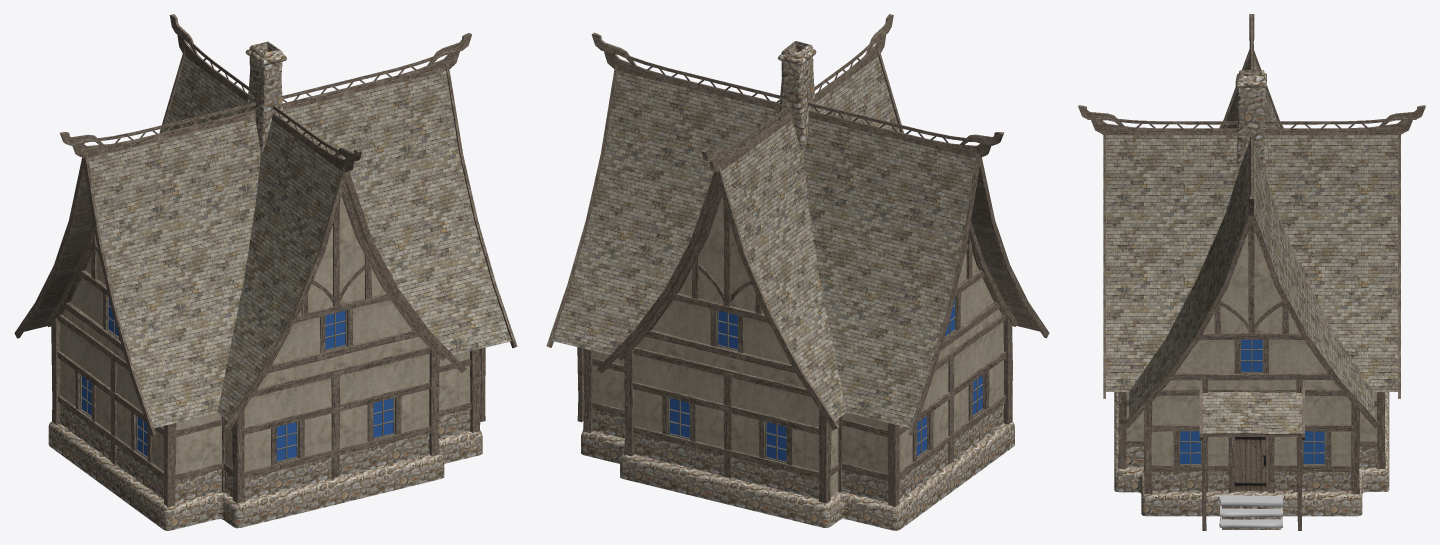
Rendered from mw_type_2_cottage_06.FBX.
The picture shows the model from 3 angles, left to right: view 1: azimuth 30°, elevation 25°; view 2: azimuth 150°, elevation 25°; view 3: azimuth 270°, elevation 25°; orthographic projection. The views are drawn at different scales.
Visible parts, largest first — view 1: mw_type_2_cottage_building_06_roof, mw_type_2_cottage_building_06_wood, mw_type_2_cottage_building_06_walls, mw_type_2_cottage_building_06_bottom, mw_type_2_cottage_building_06_stone, mw_type_2_cottage_building_06; view 2: mw_type_2_cottage_building_06_roof, mw_type_2_cottage_building_06_wood, mw_type_2_cottage_building_06_walls, mw_type_2_cottage_building_06_bottom, mw_type_2_cottage_building_06_stone, mw_type_2_cottage_building_06; view 3: mw_type_2_cottage_building_06_roof, mw_type_2_cottage_building_06_wood, mw_type_2_cottage_building_06_walls, mw_type_2_cottage_building_06_bottom, mw_type_2_cottage_building_06_stone, mw_type_2_cottage_building_06.
Part boxes in pixels (x1=…): mw_type_2_cottage_building_06_roof: x1=24, y1=56, x2=511, y2=428; mw_type_2_cottage_building_06_wood: x1=14, y1=14, x2=517, y2=507; mw_type_2_cottage_building_06_walls: x1=60, y1=196, x2=470, y2=474; mw_type_2_cottage_building_06_bottom: x1=48, y1=422, x2=482, y2=530; mw_type_2_cottage_building_06_stone: x1=60, y1=41, x2=470, y2=502; mw_type_2_cottage_building_06: x1=80, y1=296, x2=395, y2=462; mw_type_2_cottage_building_06_roof: x1=552, y1=56, x2=1039, y2=427; mw_type_2_cottage_building_06_wood: x1=546, y1=14, x2=1049, y2=506; mw_type_2_cottage_building_06_walls: x1=593, y1=197, x2=1003, y2=496; mw_type_2_cottage_building_06_bottom: x1=581, y1=422, x2=1014, y2=530; mw_type_2_cottage_building_06_stone: x1=593, y1=41, x2=1003, y2=502; mw_type_2_cottage_building_06: x1=668, y1=296, x2=984, y2=463; mw_type_2_cottage_building_06_roof: x1=1106, y1=55, x2=1397, y2=434; mw_type_2_cottage_building_06_wood: x1=1078, y1=14, x2=1425, y2=530; mw_type_2_cottage_building_06_walls: x1=1126, y1=233, x2=1377, y2=465; mw_type_2_cottage_building_06_bottom: x1=1114, y1=392, x2=1389, y2=529; mw_type_2_cottage_building_06_stone: x1=1126, y1=70, x2=1377, y2=491; mw_type_2_cottage_building_06: x1=1179, y1=339, x2=1326, y2=491.
Size of the model in its own units: 1742 by 1632 by 1381.
